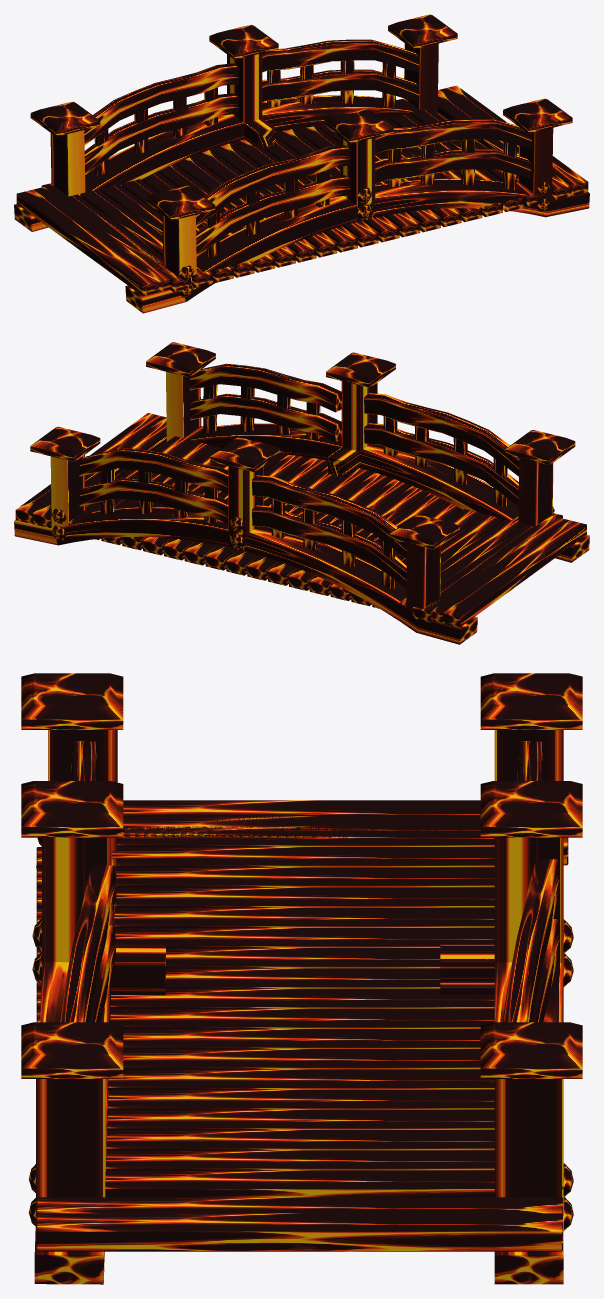
File: lavabridge.fbx
The picture shows the model from 3 angles, top to bottom: view 1: azimuth 30°, elevation 25°; view 2: azimuth 150°, elevation 25°; view 3: azimuth 270°, elevation 25°; orthographic projection. The views are drawn at different scales.
Visible parts, largest first — view 1: polySurface49; view 2: polySurface49; view 3: polySurface49.
Boxes of the visible parts, x1=… form: polySurface49: x1=14, y1=14, x2=589, y2=313; polySurface49: x1=14, y1=342, x2=589, y2=644; polySurface49: x1=21, y1=673, x2=582, y2=1284.
Bounding box in the file's own units: 59.45 × 17.35 × 32.53.
1 material, 1 textured.
